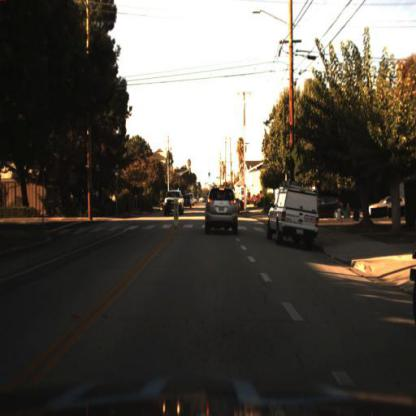car: (263, 179, 326, 251), (206, 174, 242, 236), (363, 190, 409, 222), (159, 187, 183, 219)
